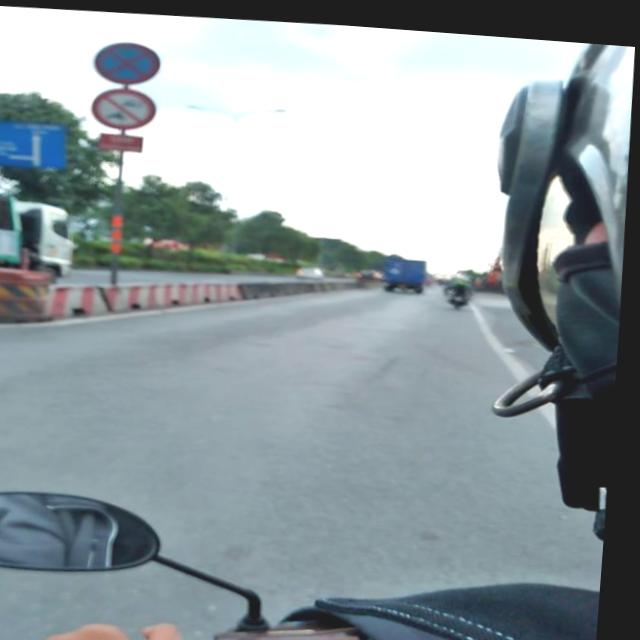Cam dung xe va do xe: (92, 38, 164, 85)
